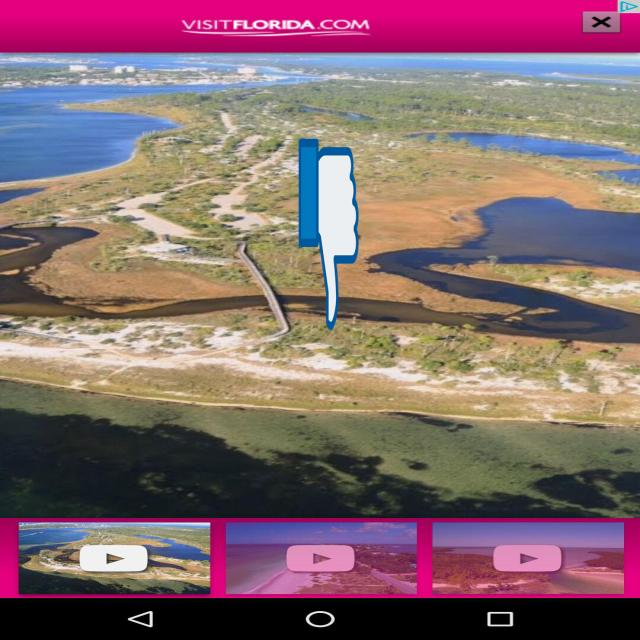obstruction: (298, 135, 358, 334)
